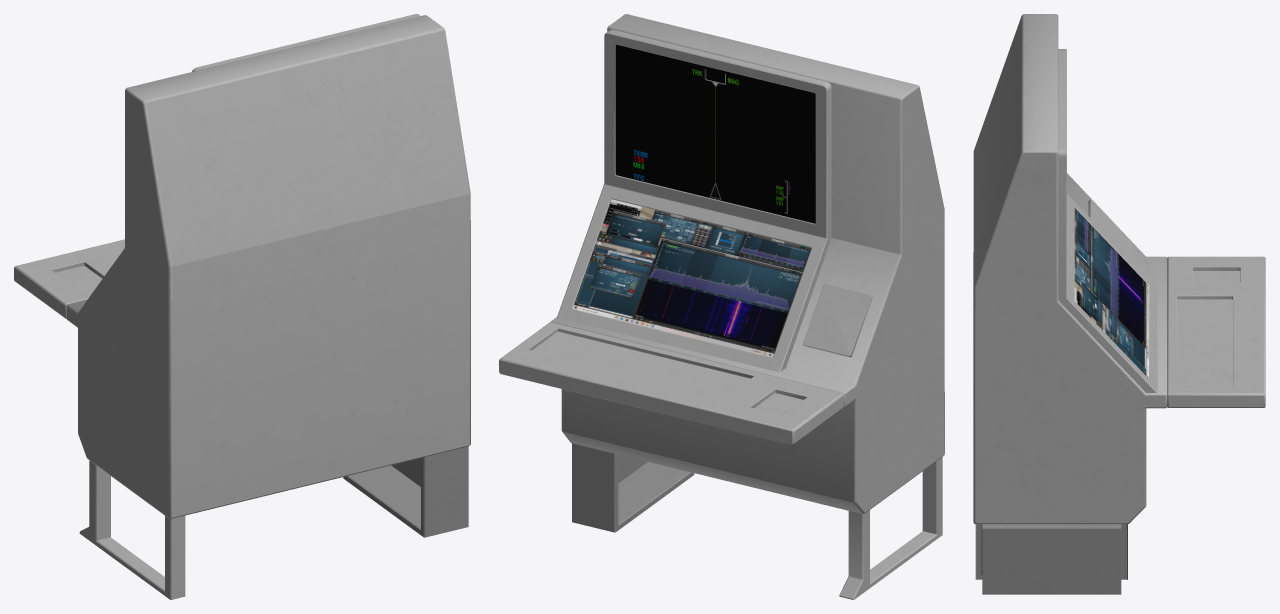
File: L_kongzhitai.FBX
The picture shows the model from 3 angles, left to right: view 1: azimuth 30°, elevation 25°; view 2: azimuth 150°, elevation 25°; view 3: azimuth 270°, elevation 25°; orthographic projection. The views are drawn at different scales.
Visible parts, largest first — view 1: L_kongzhitai; view 2: L_kongzhitai, pingmu_S_1; view 3: L_kongzhitai.
Boxes of the visible parts, box(x1,y1,x2,y2) form: L_kongzhitai: box(14, 14, 470, 599); L_kongzhitai: box(499, 14, 944, 599); pingmu_S_1: box(615, 44, 815, 223); L_kongzhitai: box(973, 14, 1265, 594).
Size of the model in its own units: 0.8662 by 1.31 by 0.7748.
